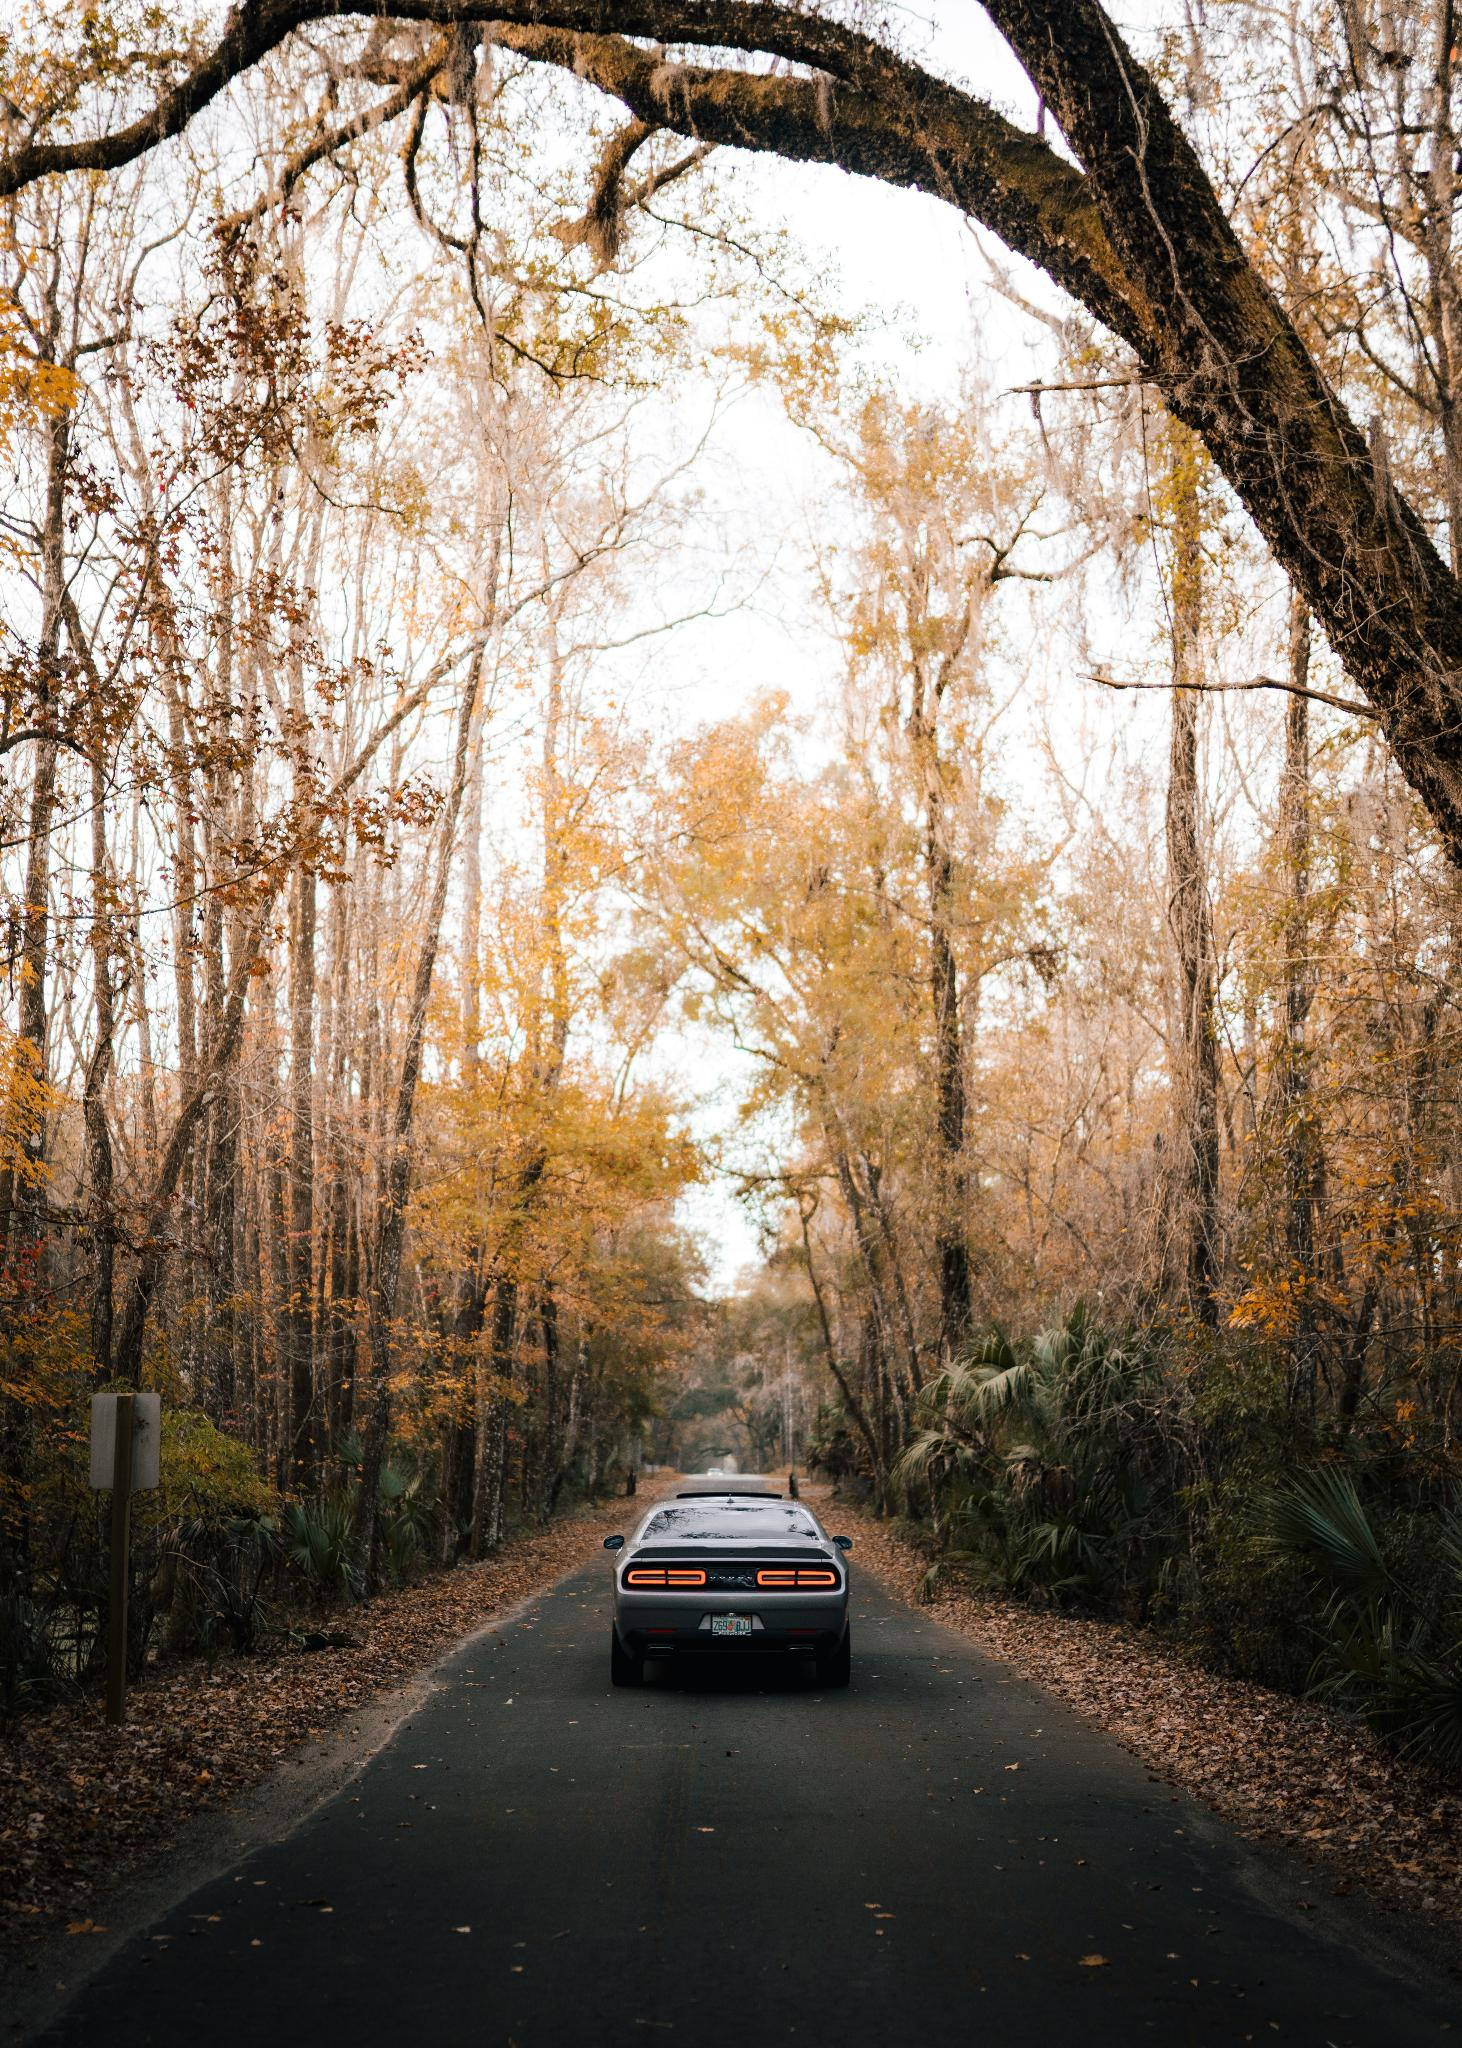dodge: (696, 1562, 766, 1596)
